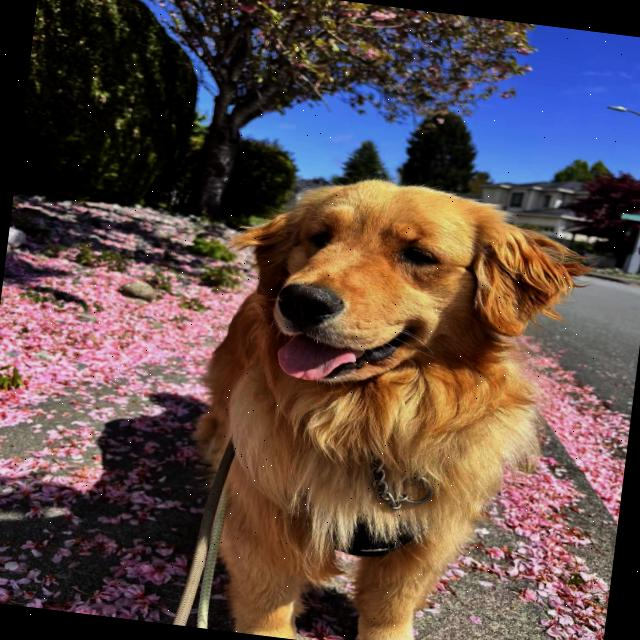golden_retriever_dog: (178, 148, 604, 450)
